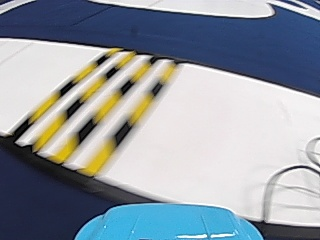bump: (13, 52, 172, 155)
